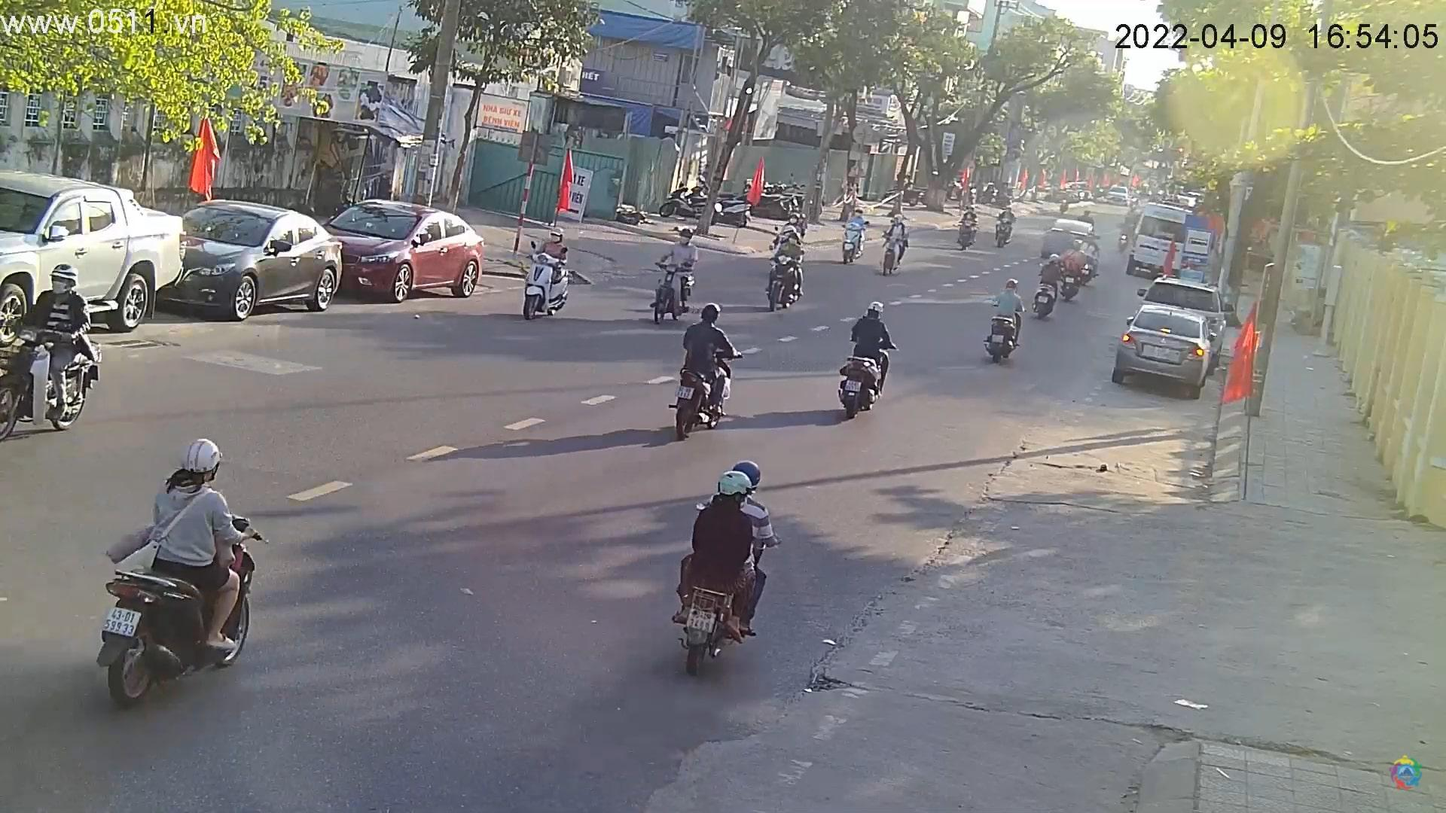car: (2, 174, 185, 337), (164, 201, 349, 322), (318, 199, 490, 305), (1114, 282, 1235, 402), (1123, 200, 1215, 279)
motorbike: (96, 555, 254, 707), (675, 516, 778, 677), (3, 276, 100, 433), (656, 337, 741, 442), (514, 247, 579, 324), (645, 238, 703, 324), (837, 351, 890, 418), (758, 247, 808, 313), (984, 317, 1020, 365)
